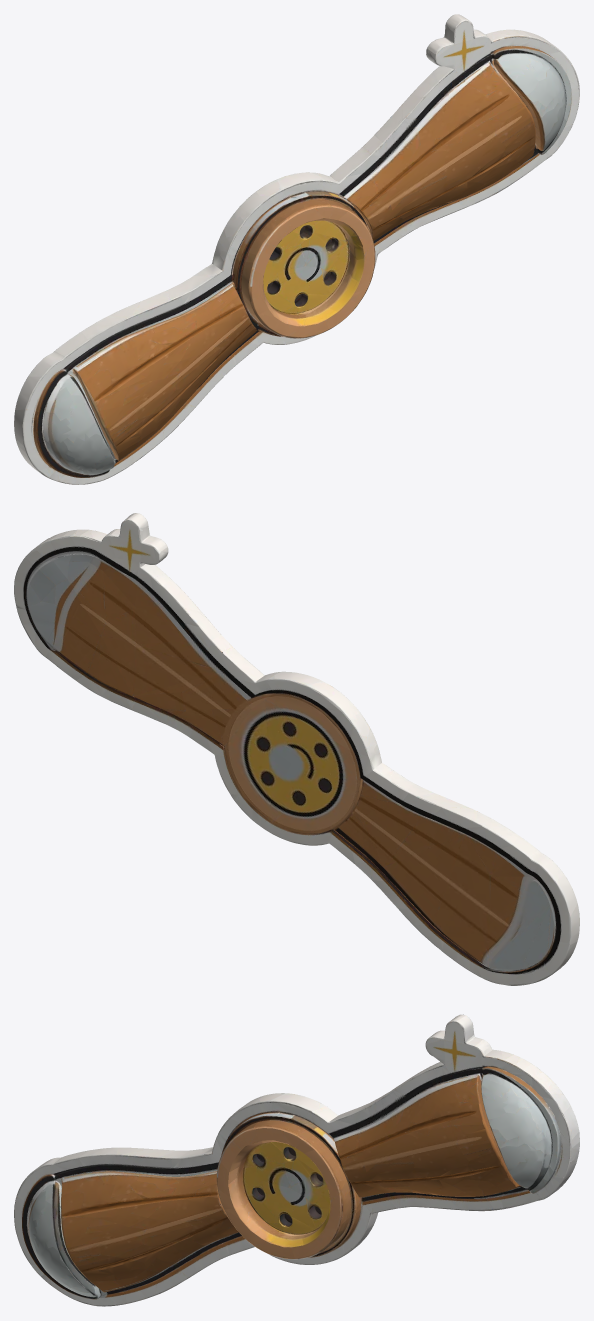
File: helice.glb
3 renders of one model, top to bottom at view 1: azimuth 30°, elevation 25°; view 2: azimuth 150°, elevation 25°; view 3: azimuth 330°, elevation 25°, orthographic.
Size of the model in its own units: 1.9 by 1.22 by 0.16.
1 material, 1 textured.
